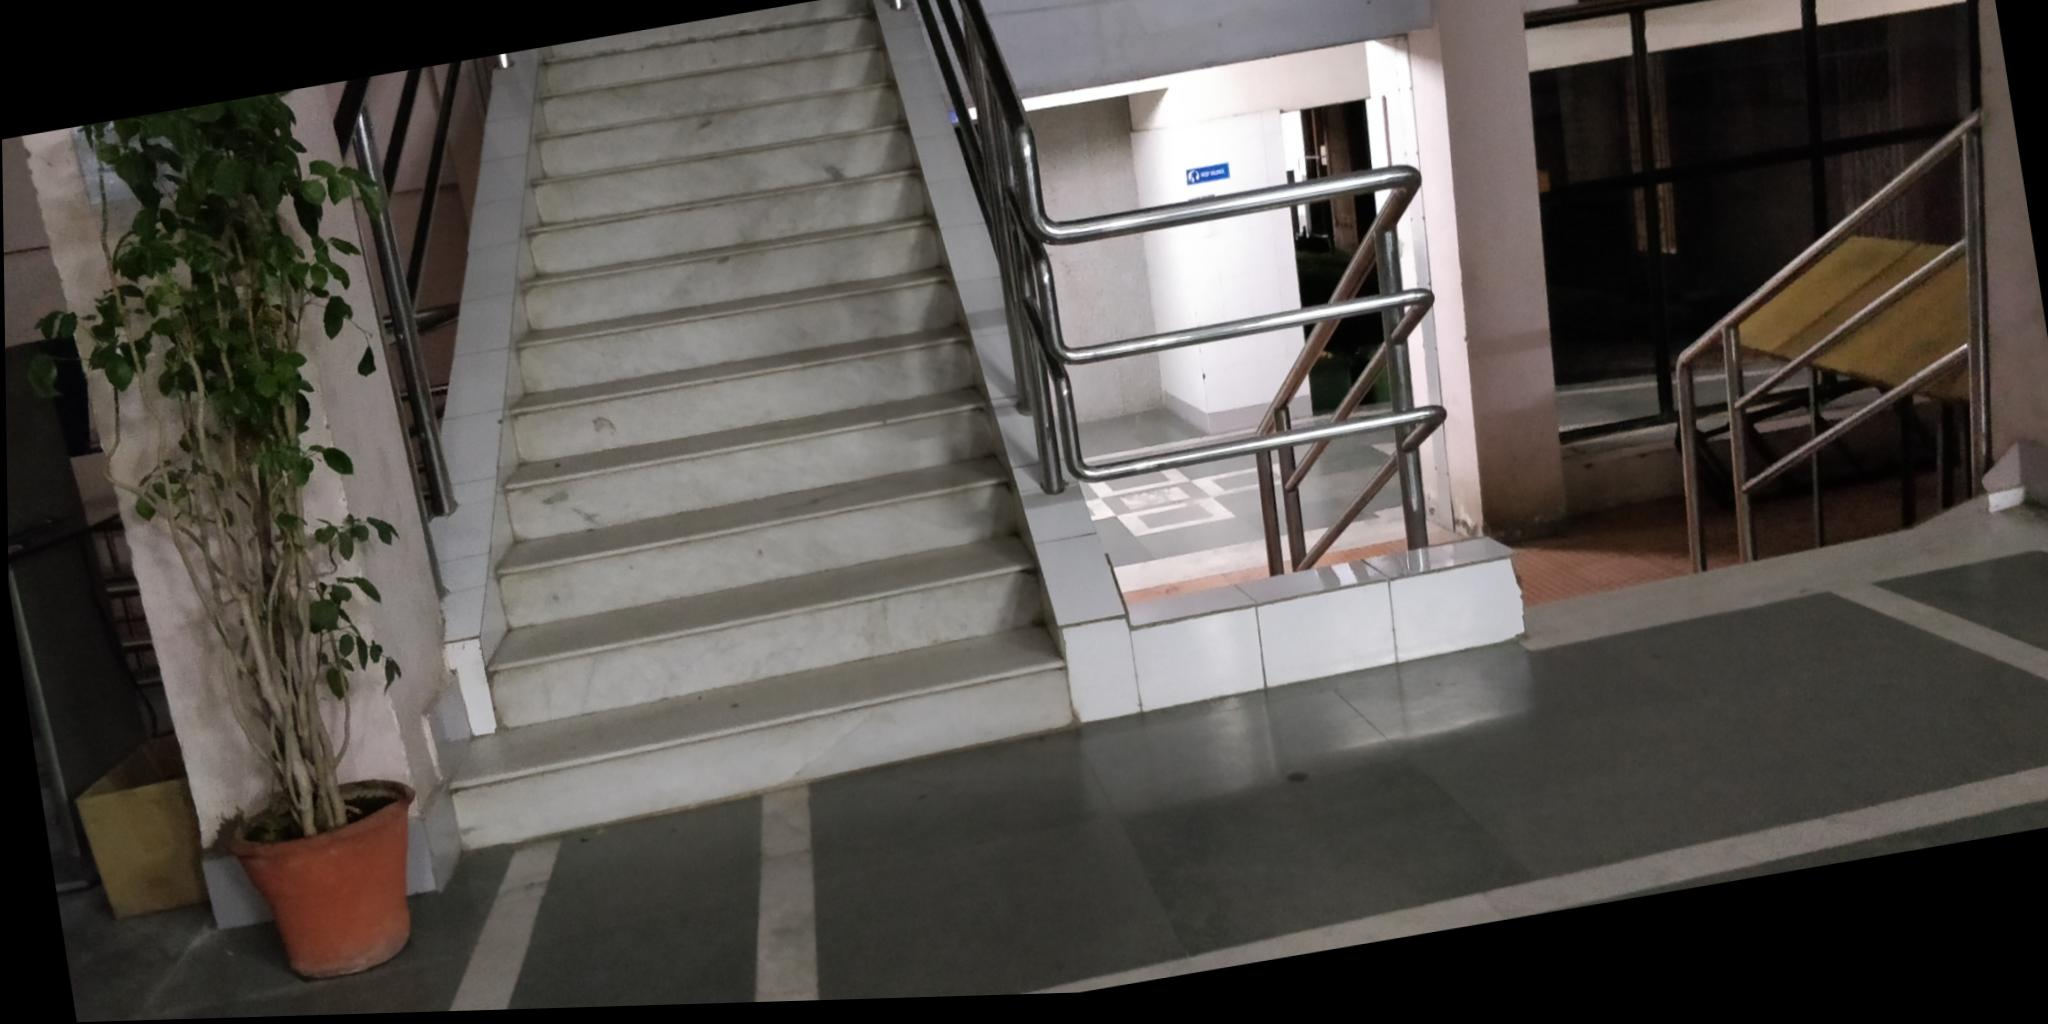Bench: (374, 0, 1092, 832)
